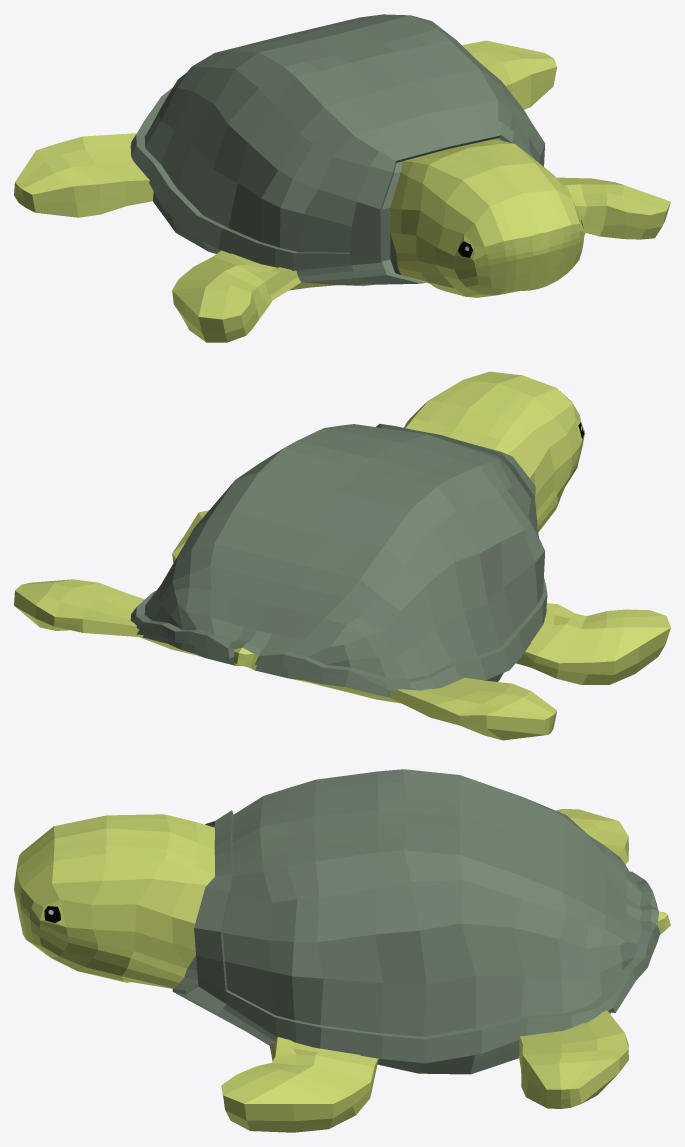
File: turtle.glb
3 views of the same model, one above another, from view 1: azimuth 30°, elevation 25°; view 2: azimuth 150°, elevation 25°; view 3: azimuth 270°, elevation 25° (orthographic). The views are drawn at different scales.
Parts seen in each view (by area): view 1: Cube; view 2: Cube; view 3: Cube.
Part boxes in pixels (x1,y1,x2,y2): Cube: [14, 14, 670, 342]; Cube: [14, 371, 670, 740]; Cube: [14, 769, 670, 1132].
Bounding box in the file's own units: 3.19 × 1.1 × 3.15.
